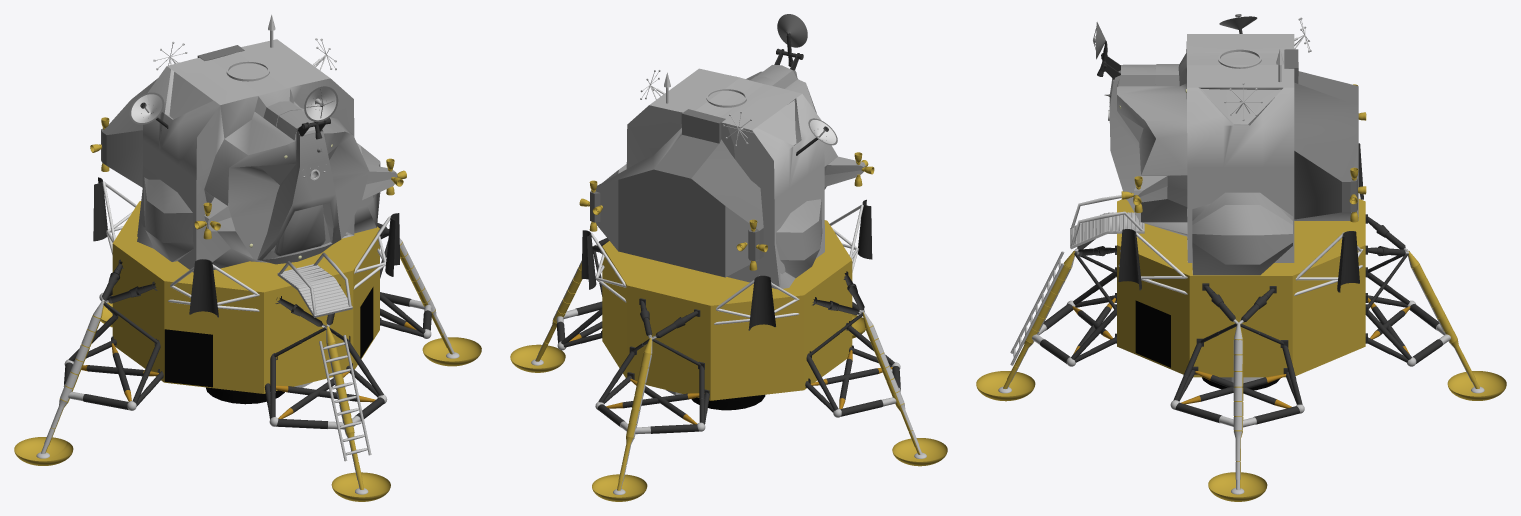
File: lunar-module.glb
The picture shows the model from 3 angles, left to right: view 1: azimuth 30°, elevation 25°; view 2: azimuth 150°, elevation 25°; view 3: azimuth 270°, elevation 25°; orthographic projection. The views are drawn at different scales.
Parts seen in each view (by area): view 1: LunarModule; view 2: LunarModule; view 3: LunarModule.
Part boxes in pixels (box(x1,y1,x2,y2)): LunarModule: box(14, 14, 481, 501); LunarModule: box(510, 14, 947, 501); LunarModule: box(976, 14, 1506, 501).
Bounding box in the file's own units: 9 × 7.02 × 9.
